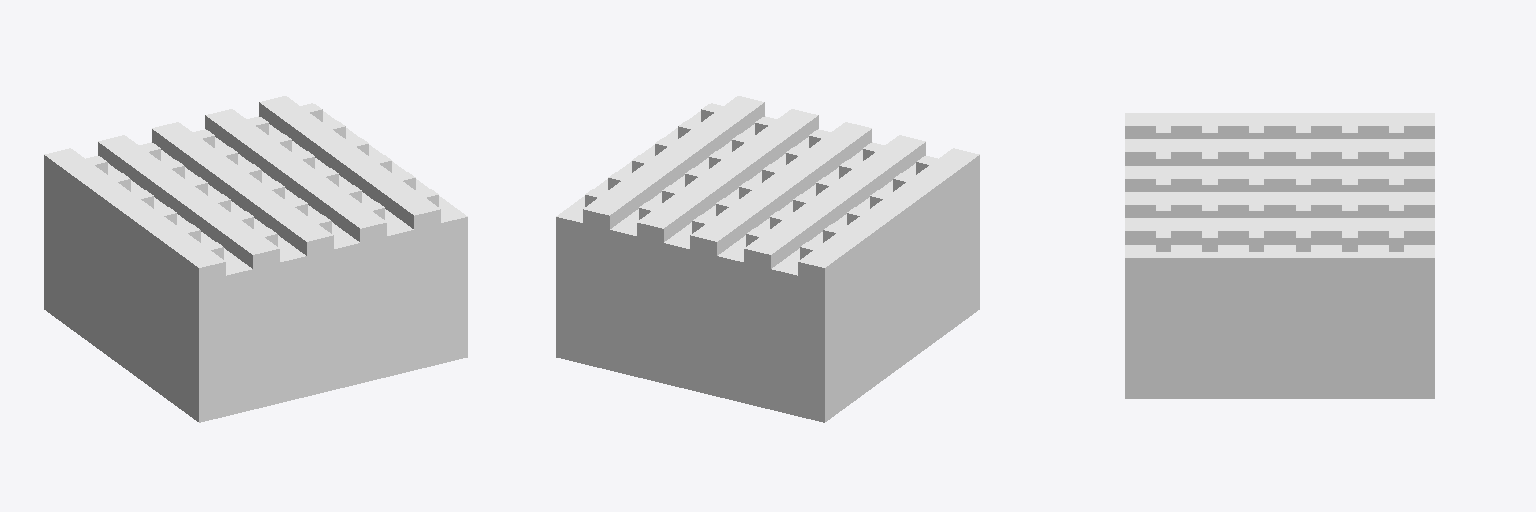
The model's file is Carrots_Level_1.obj.
The picture shows the model from 3 angles: view 1: azimuth 30°, elevation 25°; view 2: azimuth 150°, elevation 25°; view 3: azimuth 270°, elevation 25°; orthographic projection.
Parts seen in each view (by area): view 1: Carrots_Level_1; view 2: Carrots_Level_1; view 3: Carrots_Level_1.
Part boxes in pixels (bbox=[...]): Carrots_Level_1: bbox=[44, 96, 467, 422]; Carrots_Level_1: bbox=[556, 96, 979, 422]; Carrots_Level_1: bbox=[1125, 113, 1434, 398].
Bounding box in the file's own units: 20 × 11 × 20.